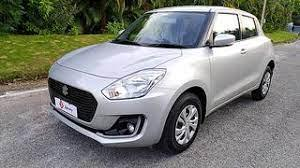Hatchback: (46, 4, 281, 153)
